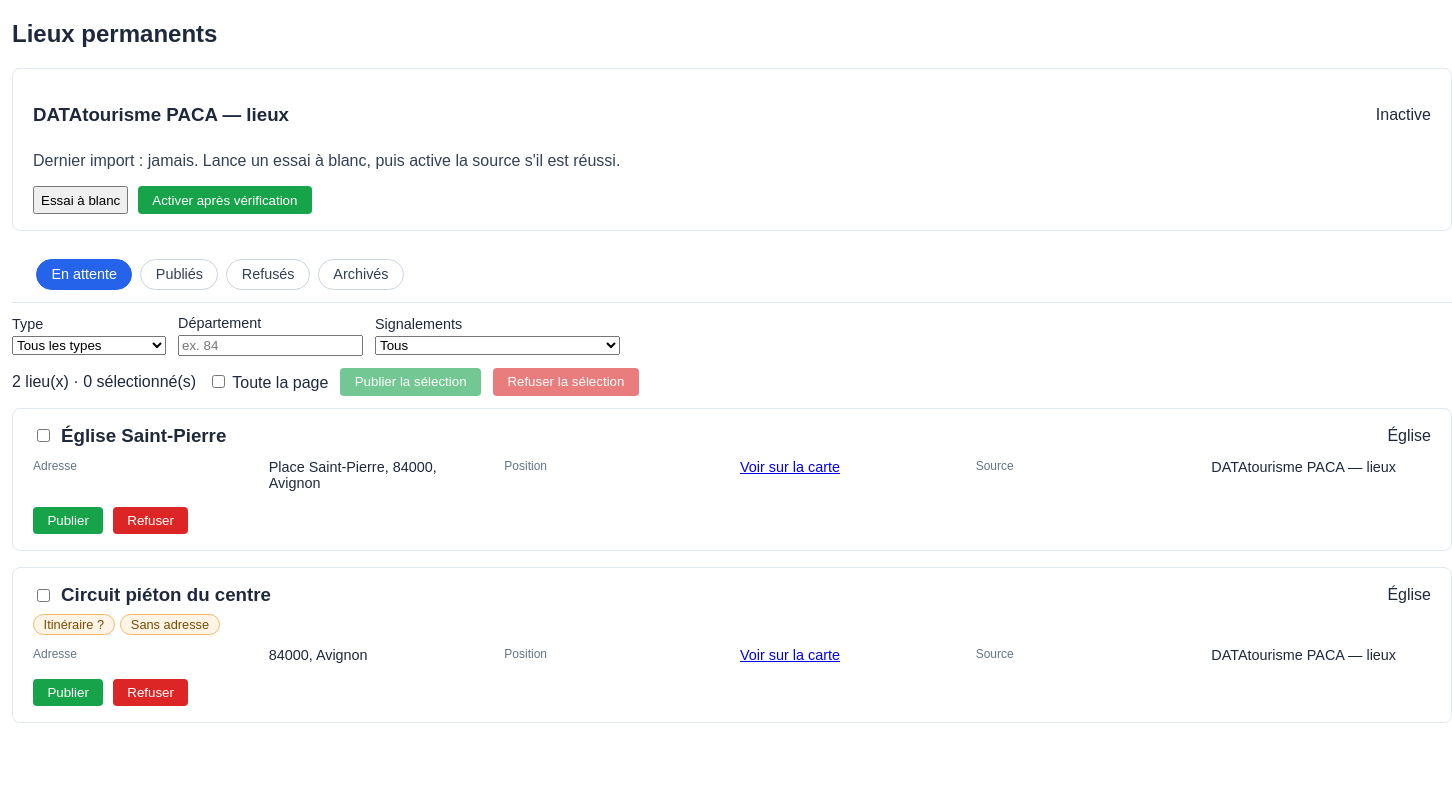
AdminPlacesSection › lance un essai à blanc de la source et affiche son bilan sans écriture
Expected: the heading "Église Saint-Pierre" is shown, [61,425,226,447]
Click the button "Essai à blanc".
click(81, 200)  # box [33,186,128,214]
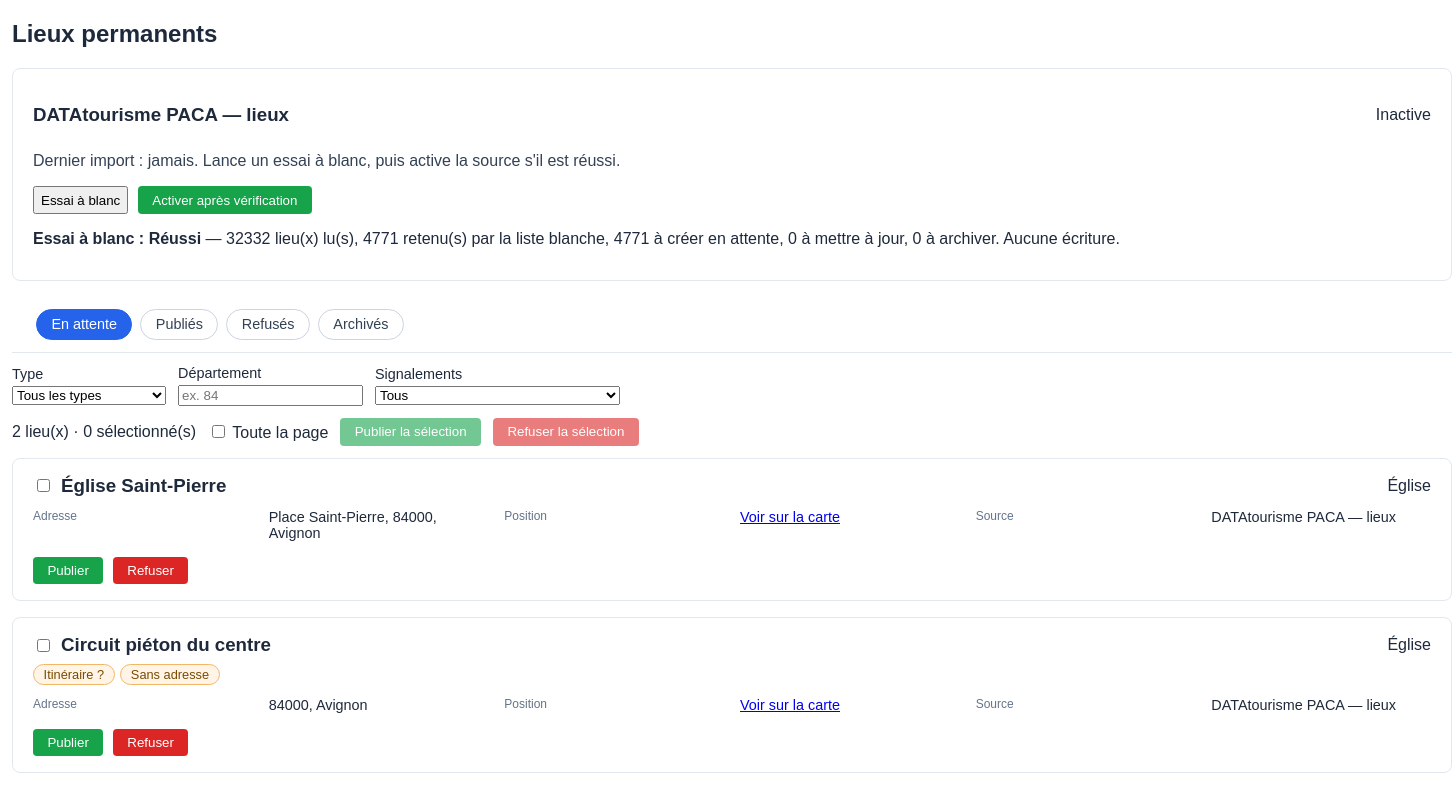
Expected: the button "Activer après vérification" is shown, [138,186,312,214]
Expected: the text "4771 retenu(s) par la liste blanche" is shown, [226,230,995,247]
Expected: the text "Aucune écriture" is shown, [1000,230,1120,247]
